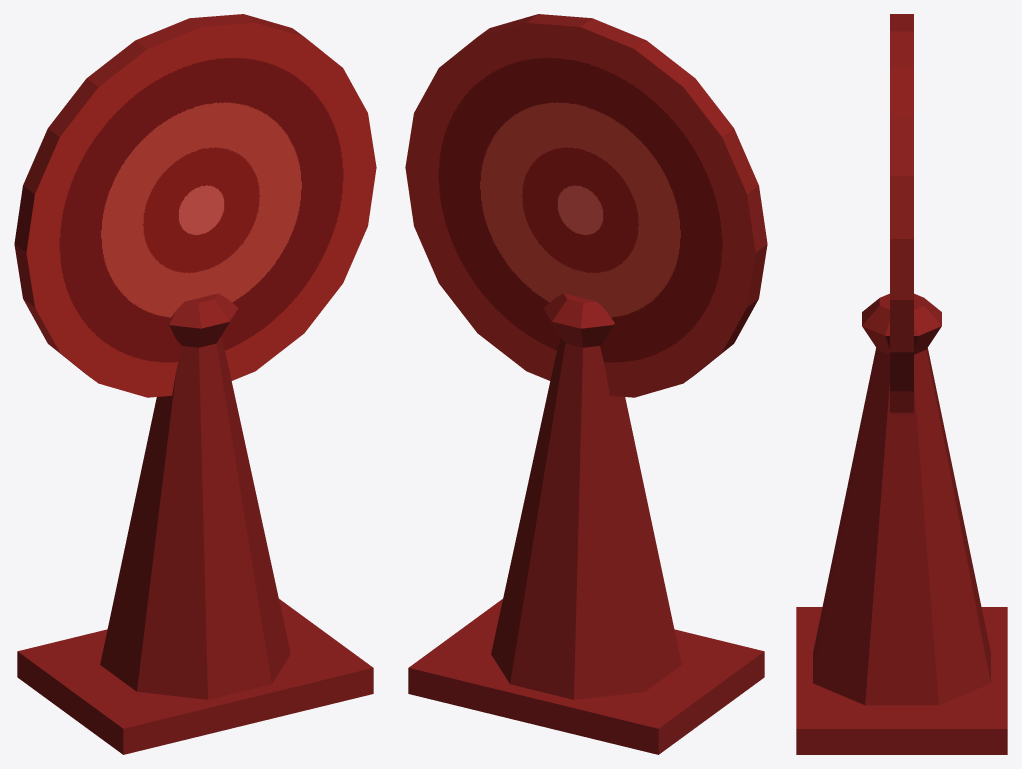
The model's file is target_red.glb.
3 renders of one model, left to right at view 1: azimuth 30°, elevation 25°; view 2: azimuth 150°, elevation 25°; view 3: azimuth 270°, elevation 25°, orthographic.
Visible parts, largest first — view 1: target_red; view 2: target_red; view 3: target_red.
Part boxes in pixels (x1,y1,x2,y2): target_red: (14,14,376,754); target_red: (405,14,767,754); target_red: (796,14,1007,754).
Bounding box in the file's own units: 2.55 × 4.62 × 1.34.
Materials: 1 (1 with a texture image).
